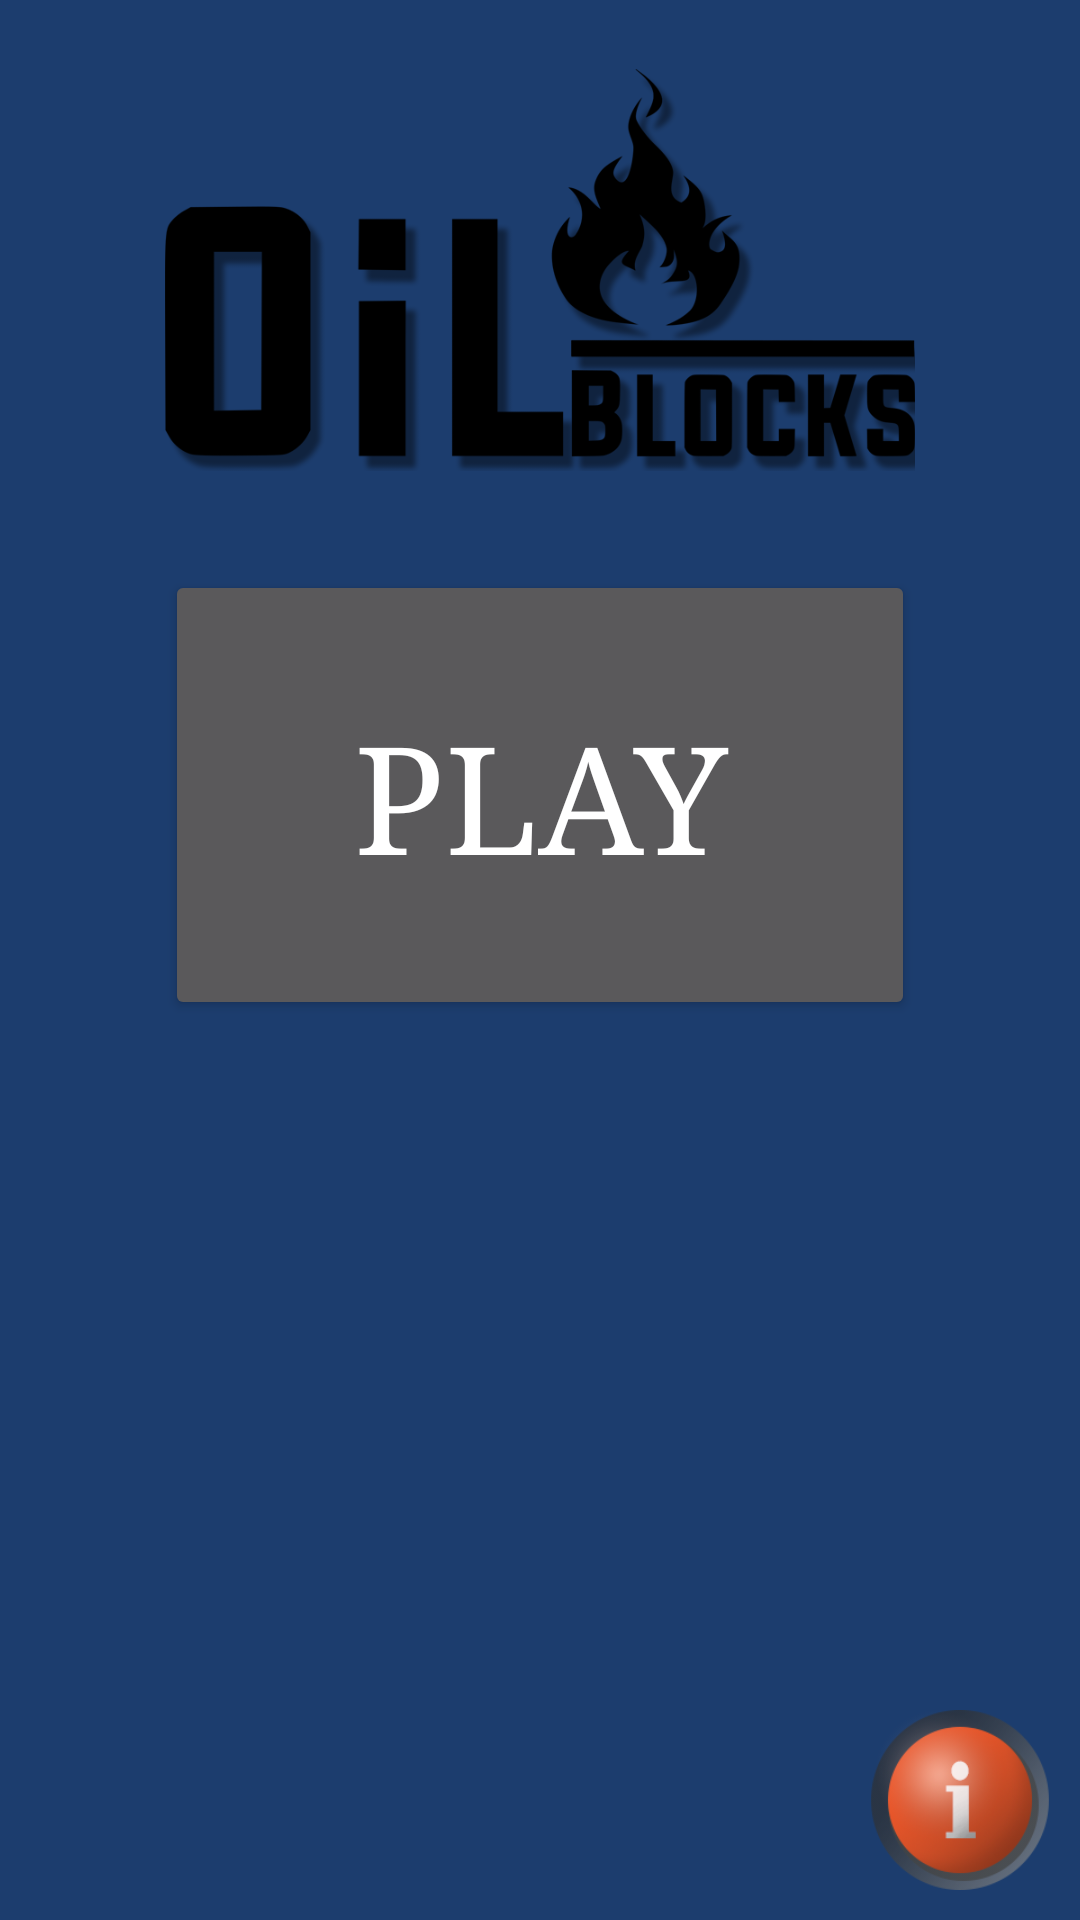

Icons on this 1080px x 1920px Android screen, each with the point to tap as (x,y):
custom info: (960,1800)
